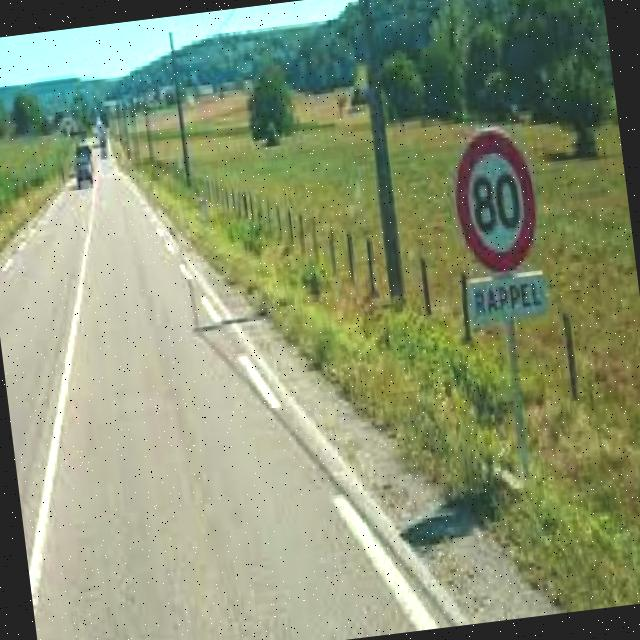Ograniczenie predkosci do 80: (446, 121, 544, 282)
